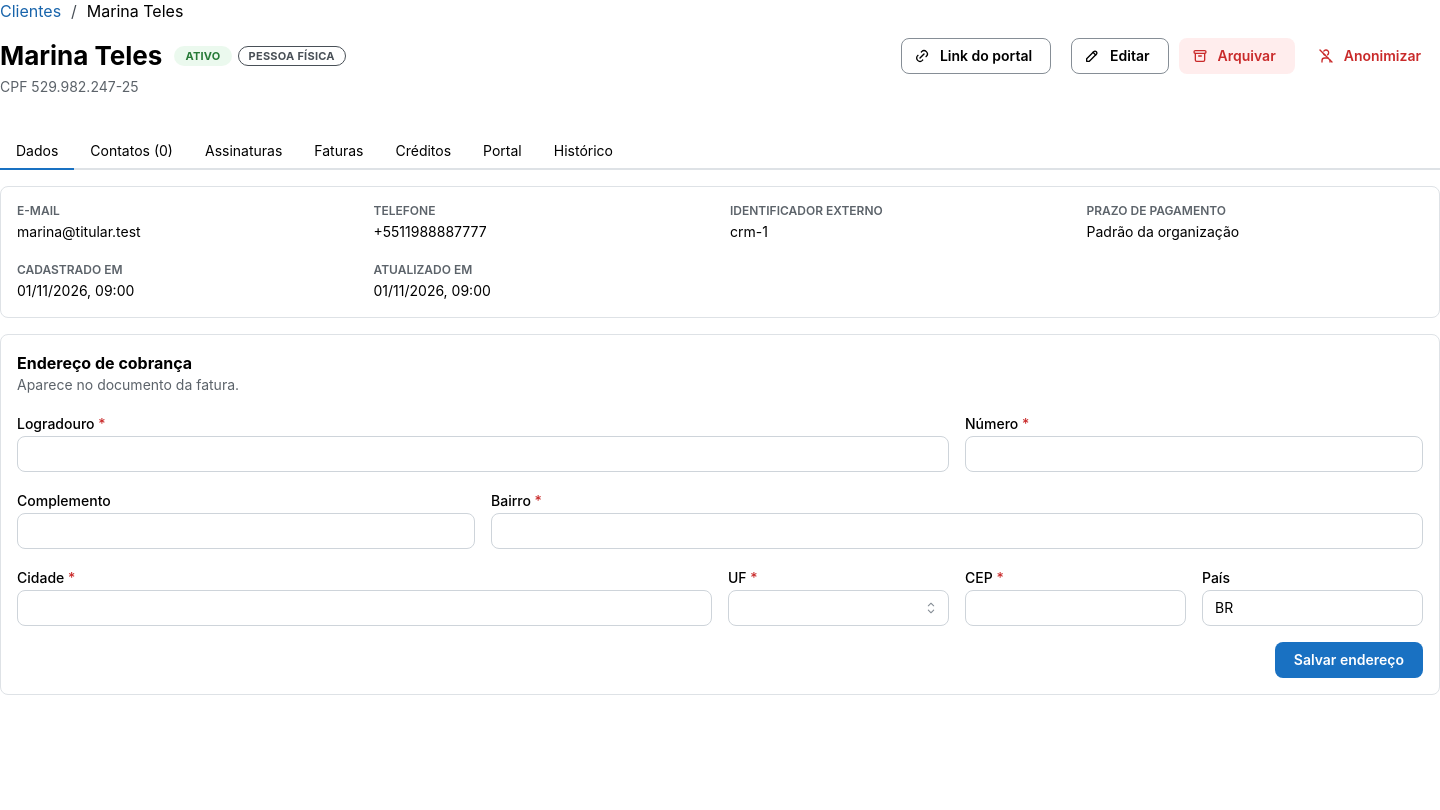
anonimização de cliente › exige justificativa e confirmação, envia Idempotency-Key e mostra os identificadores do provedor
Click the button "Anonimizar" at (1372, 56), box [1305, 38, 1439, 74]
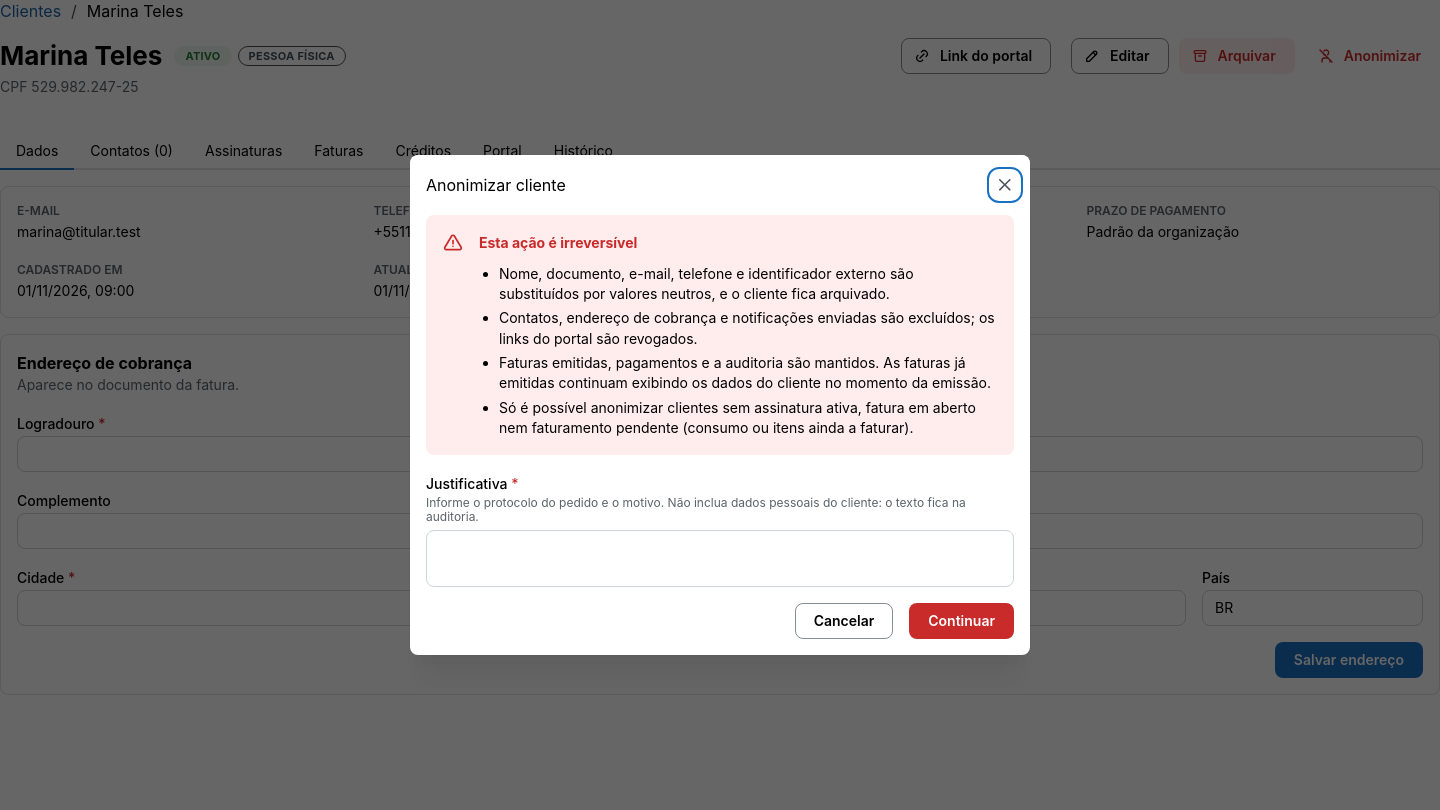
Now the text "Esta ação é irreversível" is shown, box [479, 232, 637, 254]
Now the text "Faturas emitidas, pagamentos e a auditoria são mantidos" is shown, box [499, 354, 991, 391]
Justificativa curta não é enviada.
Type "pedido" into the text box labelled "Justificativa *" at (720, 558), box [426, 530, 1014, 587]
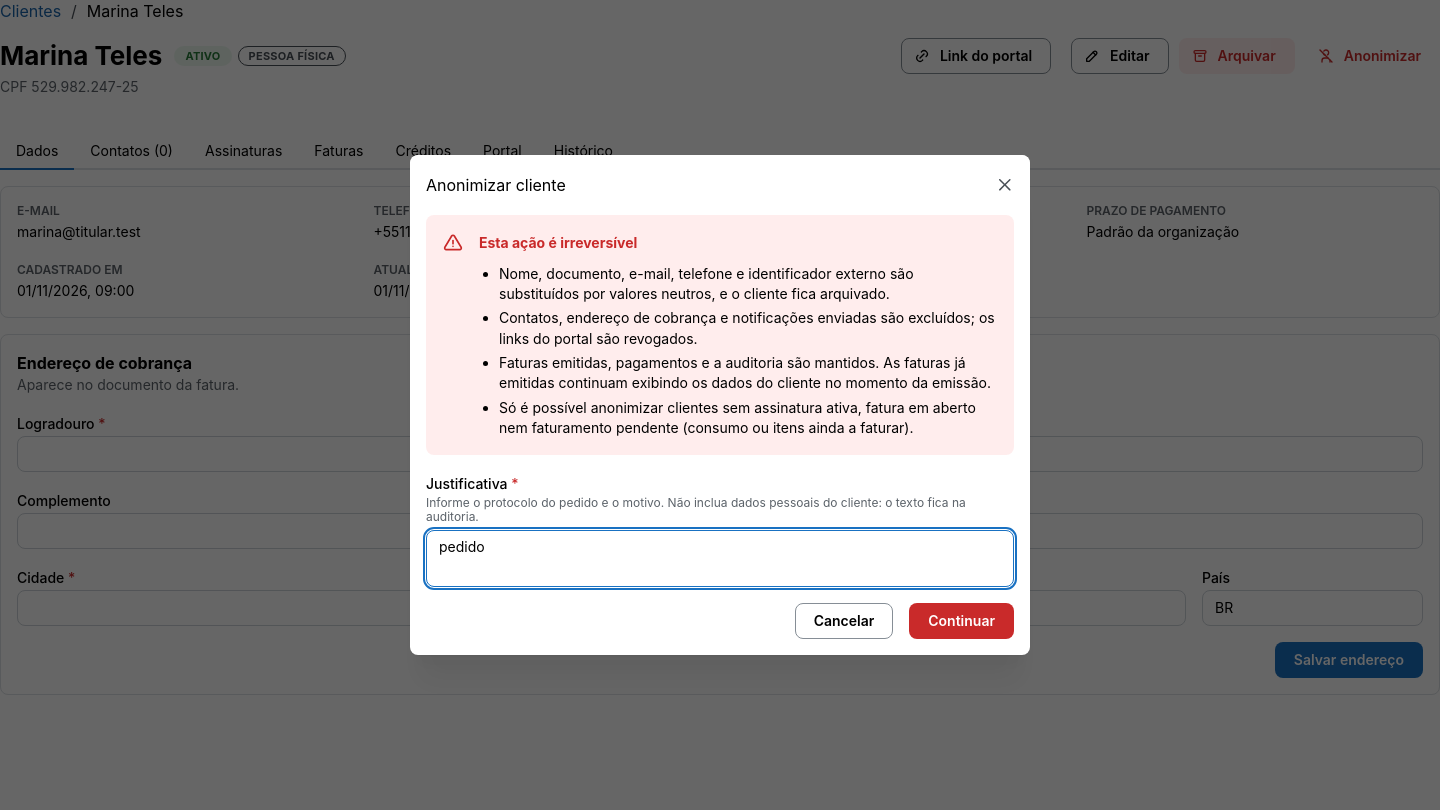
Click the button "Continuar" at (962, 621), box [909, 603, 1014, 639]
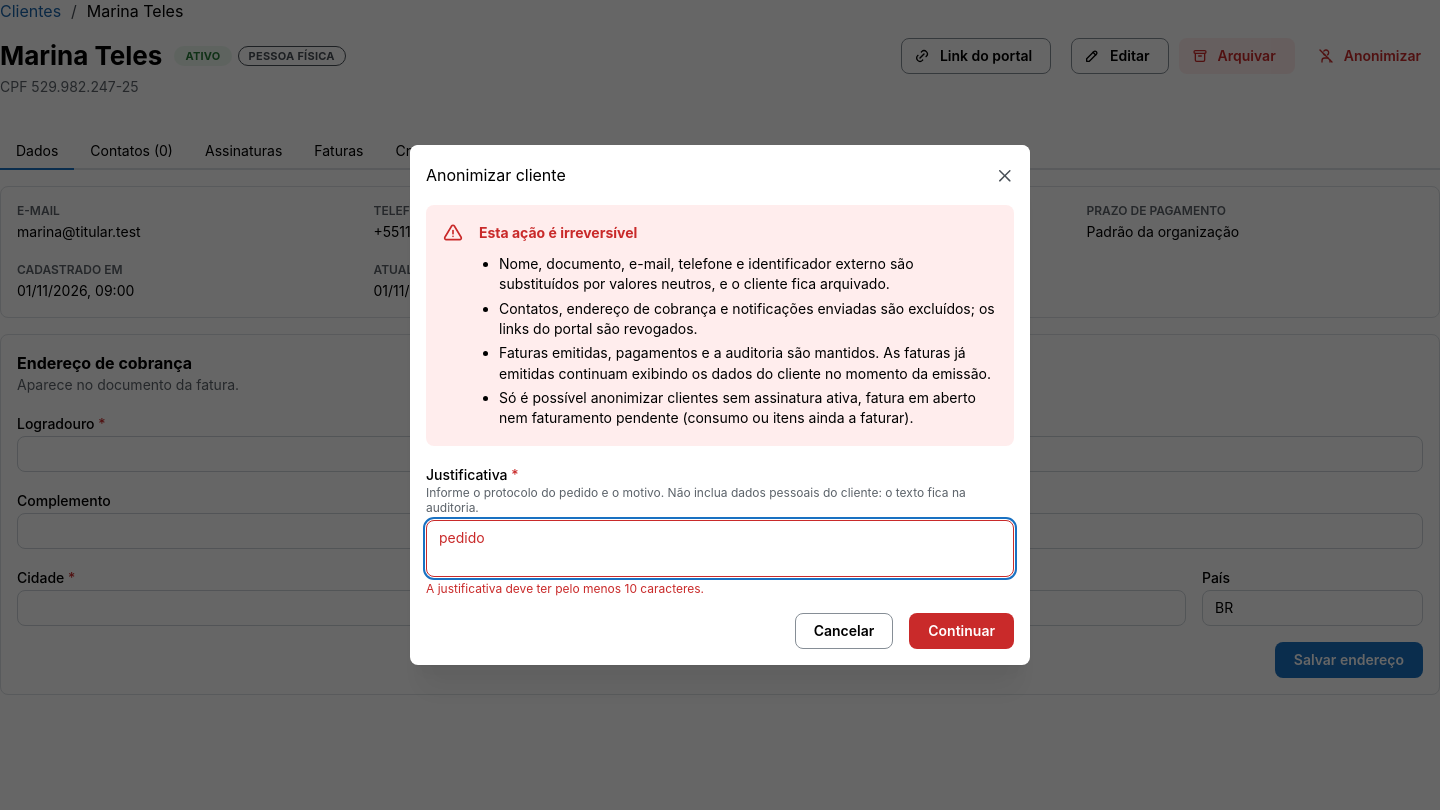
Now the text "A justificativa deve ter pelo menos 10 caracteres." is shown, box [426, 581, 704, 596]
Replace the text in the text box labelled "Justificativa *" with "Pedido de eliminação, protocolo 2026/0042" at (720, 549), box [426, 520, 1014, 577]
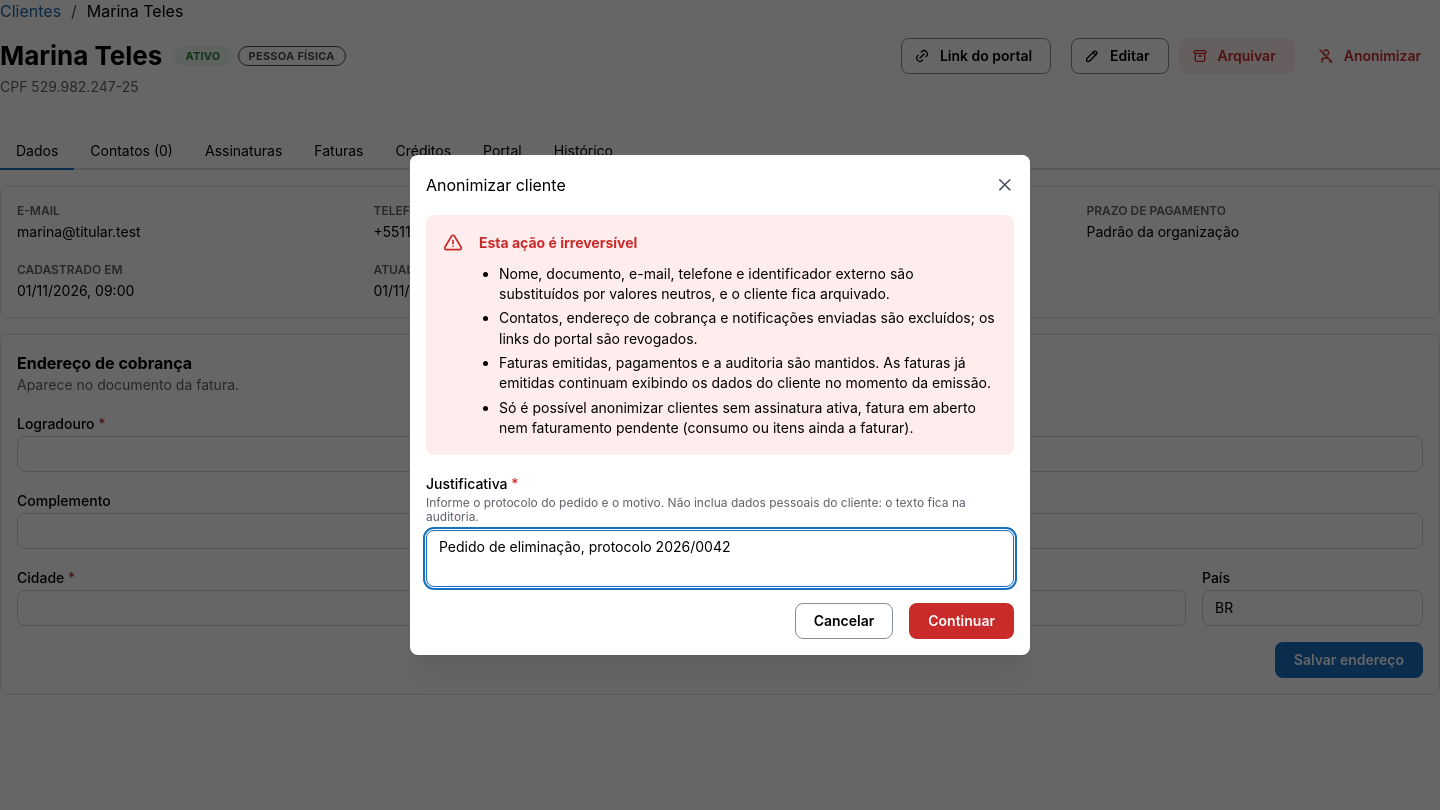
Click the button "Continuar" at (962, 621), box [909, 603, 1014, 639]
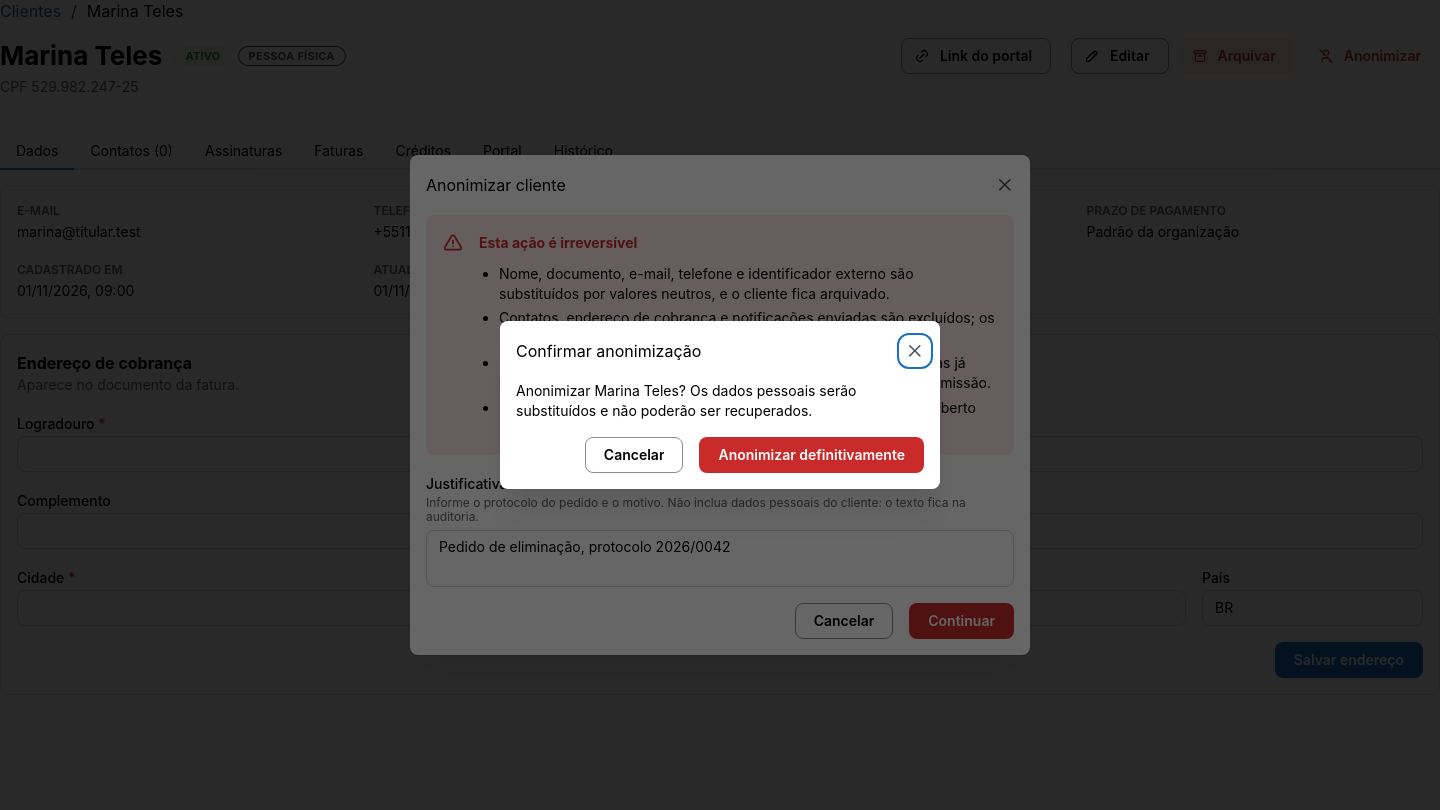
Now the text "não poderão ser recuperados" is shown, box [516, 382, 856, 419]
Click the button "Anonimizar definitivamente" at (812, 455), box [700, 437, 924, 473]
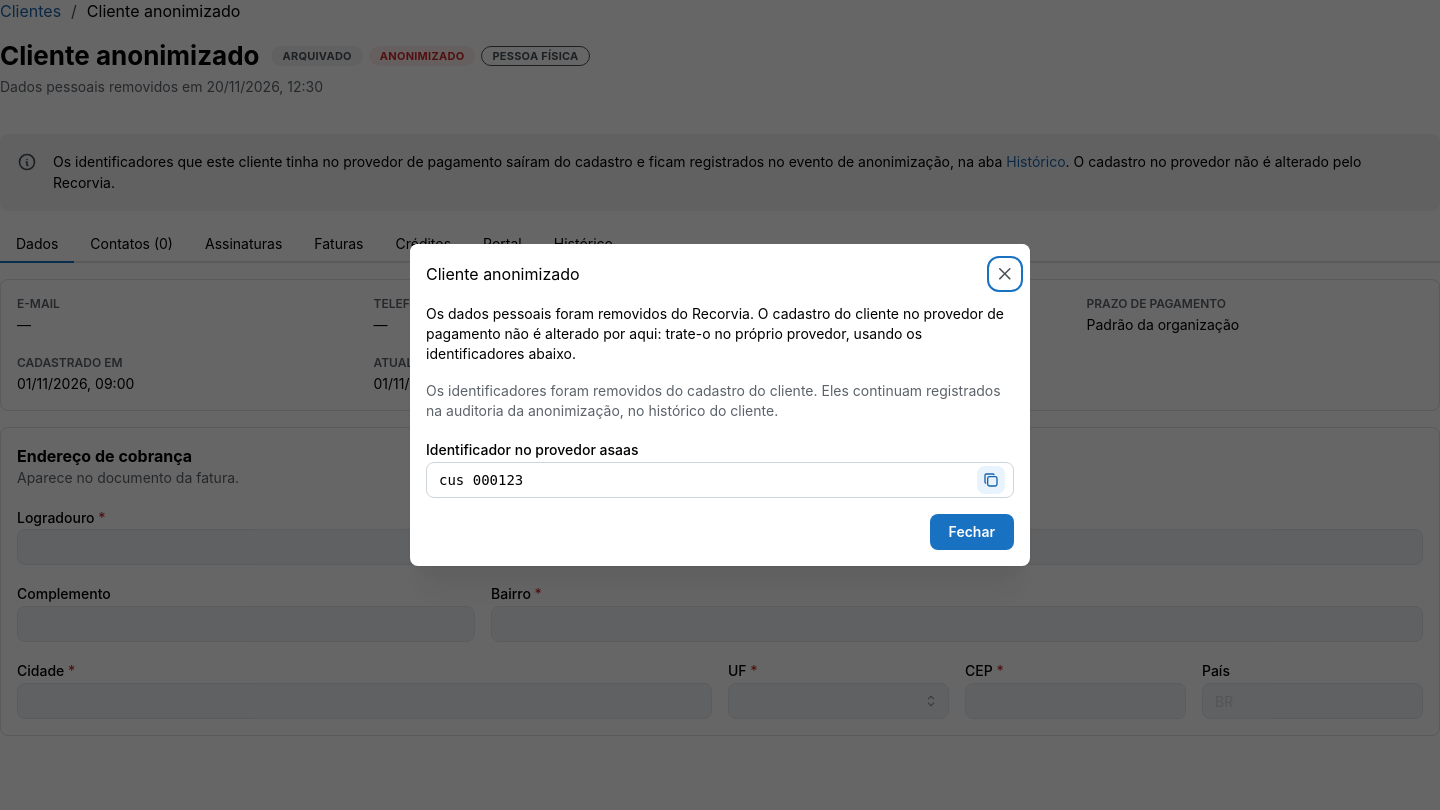
Now the field labelled "Identificador no provedor asaas" holds "cus_000123", box [426, 462, 1014, 498]
